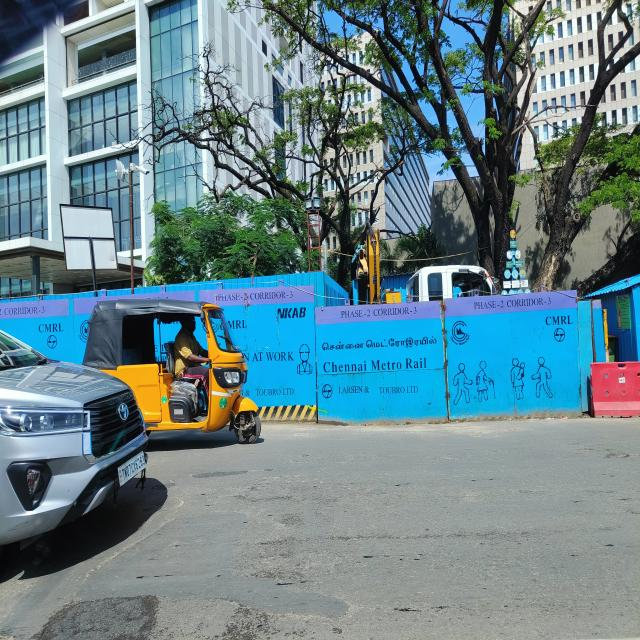scratch: (0, 519, 57, 541)
